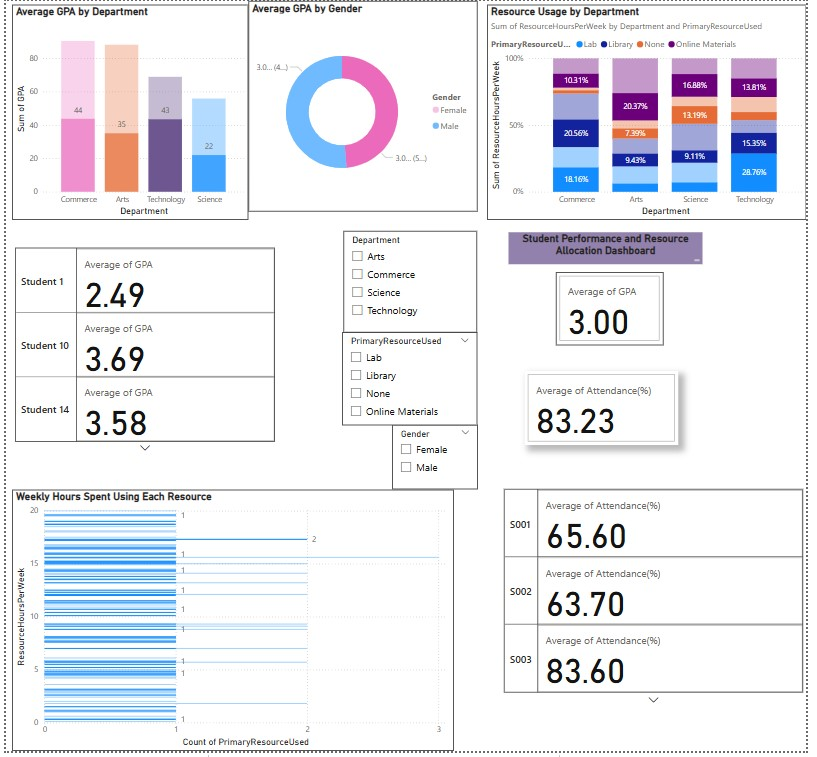

Layout of this report page (visuals, bound fields, positions):
{"tool":"powerbi","page":{"name":": Educational Performance and Resource Allocation","canvas":[1280,1200],"ordinal":5},"visuals":[{"type":"clusteredColumnChart","title":"Average GPA by Department","fields":{"Category":[": Educational Performance and Resource Allocation.Department"],"Y":["Sum(: Educational Performance and Resource Allocation.GPA)"]},"box":[9.9,5.9,378,344.3],"z":0},{"type":"donutChart","title":"Average GPA by Gender","fields":{"Category":[": Educational Performance and Resource Allocation.Gender"],"Y":["Avg(: Educational Performance and Resource Allocation.GPA)"]},"box":[387.9,0,366.1,336.4],"z":1000},{"type":"hundredPercentStackedColumnChart","title":"Resource Usage by Department","fields":{"Category":[": Educational Performance and Resource Allocation.Department"],"Series":[": Educational Performance and Resource Allocation.PrimaryResourceUsed"],"Y":["Sum(: Educational Performance and Resource Allocation.ResourceHoursPerWeek)"]},"box":[769.8,5.9,510.6,344.3],"z":2000},{"type":"slicer","fields":{"Values":[": Educational Performance and Resource Allocation.Gender"]},"box":[617.4,678.8,136.5,102.9],"z":3000},{"type":"slicer","fields":{"Values":[": Educational Performance and Resource Allocation.Department"]},"box":[540.2,368.1,213.7,162.3],"z":4000},{"type":"slicer","fields":{"Values":[": Educational Performance and Resource Allocation.PrimaryResourceUsed"]},"box":[538.3,530.4,215.7,148.4],"z":5000},{"type":"textbox","box":[828.6,591.2,104.4,36.3],"z":6000},{"type":"cardVisual","fields":{"Data":["Avg(: Educational Performance and Resource Allocation.GPA)"]},"box":[880.6,433.4,172.2,116.8],"z":7000},{"type":"cardVisual","fields":{"Data":["Avg(: Educational Performance and Resource Allocation.Attendance(%))"]},"box":[829.2,591.7,245.4,118.7],"z":8000},{"type":"cardVisual","fields":{"Rows":[": Educational Performance and Resource Allocation.StudentID"],"Data":["Avg(: Educational Performance and Resource Allocation.Attendance(%))"]},"box":[791.6,755.9,488.8,378],"z":9000},{"type":"textbox","box":[7,462,150,150],"z":10000},{"type":"textbox","title":"Student Performance and Resource Allocation Dashboard","box":[803.4,370.1,310.7,51.5],"z":11000},{"type":"cardVisual","fields":{"Rows":[": Educational Performance and Resource Allocation.Name"],"Data":["Avg(: Educational Performance and Resource Allocation.GPA)"]},"box":[9.9,370.1,425.5,360.2],"z":12000},{"type":"clusteredBarChart","title":"Weekly Hours Spent Using Each Resource","fields":{"Y":["CountNonNull(: Educational Performance and Resource Allocation.PrimaryResourceUsed)"],"Category":[": Educational Performance and Resource Allocation.ResourceHoursPerWeek"]},"box":[9.9,781.7,706.5,417.6],"z":13000}]}

Visuals, with their boxes in screenshot pixels (x1, y1, x2, y2), scaled from the page's 1280x1200 canvas onto the 817x757 screenshot:
"Average GPA by Department" clusteredColumnChart: [6,4,248,221]
"Average GPA by Gender" donutChart: [248,0,481,212]
"Resource Usage by Department" hundredPercentStackedColumnChart: [491,4,816,221]
slicer - : Educational Performance and Resource Allocation.Gender: [394,428,481,493]
slicer - : Educational Performance and Resource Allocation.Department: [345,232,481,335]
slicer - : Educational Performance and Resource Allocation.PrimaryResourceUsed: [344,335,481,428]
textbox: [529,373,596,396]
cardVisual - Avg(: Educational Performance and Resource Allocation.GPA): [562,273,672,347]
cardVisual - Avg(: Educational Performance and Resource Allocation.Attendance(%)): [529,373,686,448]
cardVisual - : Educational Performance and Resource Allocation.StudentID x Avg(: Educational Performance and Resource Allocation.Attendance(%)): [505,477,816,715]
textbox: [4,291,100,386]
"Student Performance and Resource Allocation Dashboard" textbox: [513,233,711,266]
cardVisual - : Educational Performance and Resource Allocation.Name x Avg(: Educational Performance and Resource Allocation.GPA): [6,233,278,461]
"Weekly Hours Spent Using Each Resource" clusteredBarChart: [6,493,457,756]
